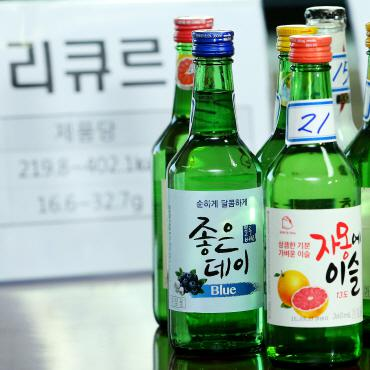soju: (149, 15, 367, 364)
